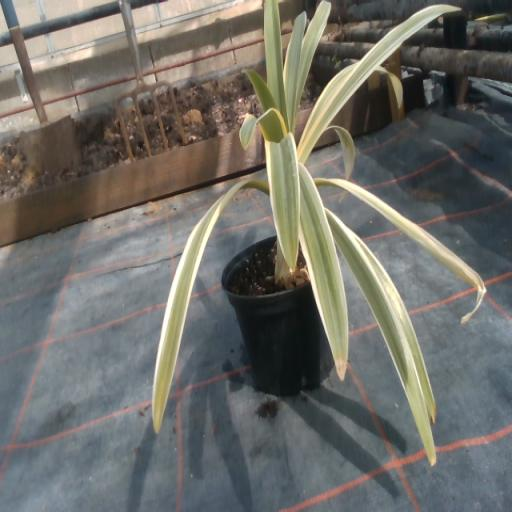Agapanthus-praecox: (153, 180, 267, 432), (326, 210, 434, 462), (299, 4, 457, 163), (315, 179, 486, 323), (352, 231, 436, 422), (299, 165, 348, 378), (299, 61, 361, 145), (266, 133, 299, 267), (292, 3, 330, 113), (265, 0, 288, 130), (285, 12, 306, 129), (240, 109, 284, 148), (244, 69, 277, 112), (328, 126, 354, 178), (377, 66, 402, 106)
